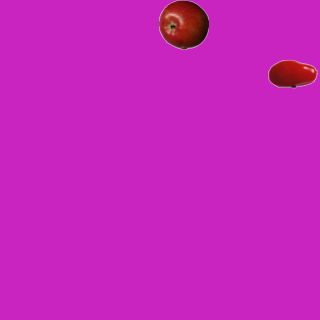Apple Braeburn: (158, 0, 208, 49)
Tomato 2: (267, 48, 317, 98)
